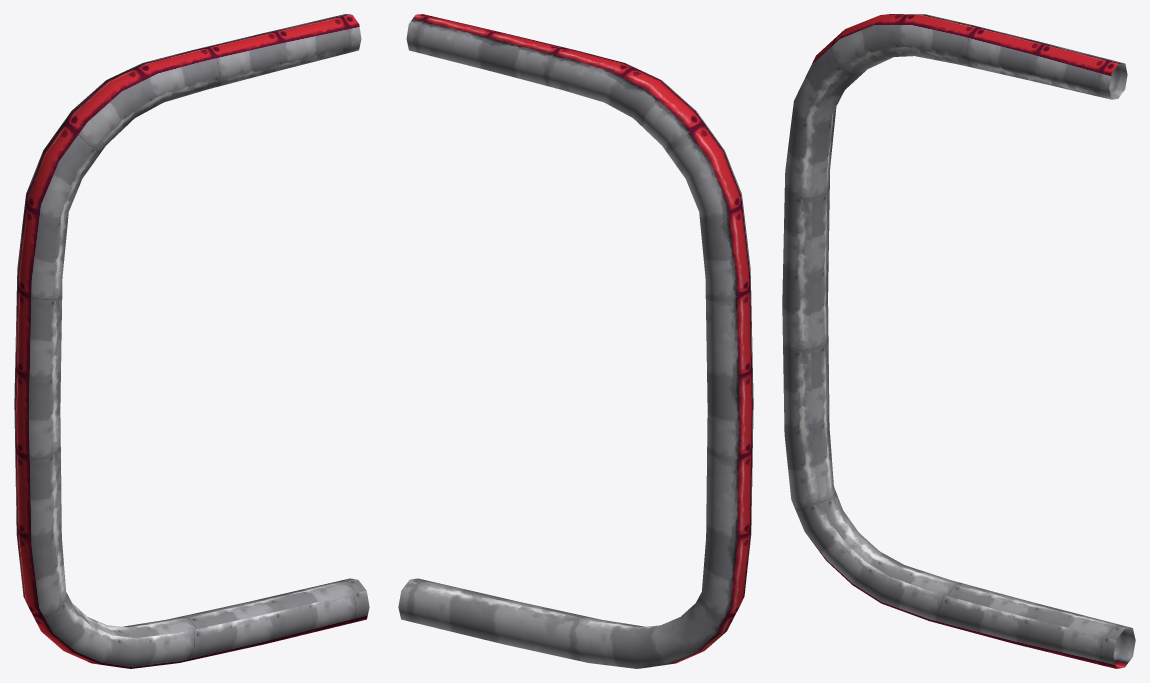
3 renders of one model, left to right at view 1: azimuth 30°, elevation 25°; view 2: azimuth 150°, elevation 25°; view 3: azimuth 330°, elevation 25°, orthographic.
Parts seen in each view (by area): view 1: Cube; view 2: Cube; view 3: Cube.
Part boxes in pixels (x1,y1,x2,y2): Cube: (14, 14, 369, 668); Cube: (398, 14, 753, 668); Cube: (782, 14, 1135, 668).
Size of the model in its own units: 11.48 by 19.54 by 1.36.
